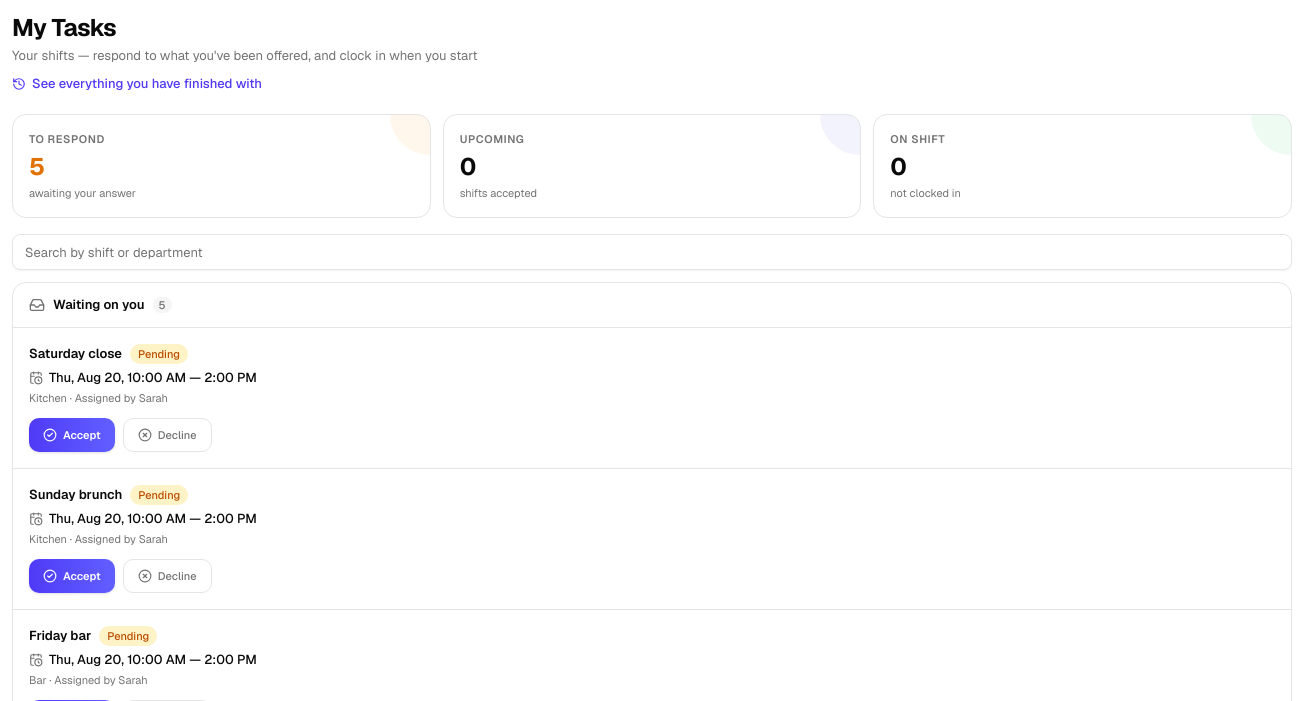
Scenario: searching what is on the plate › matches on department too
The width and height of the screenshot is (1304, 701).
Expected: the heading "Friday bar" is shown, [29,626,91,646]
Type "bar" into the field named "Search your shifts" at (652, 252), box [12,234,1292,270]
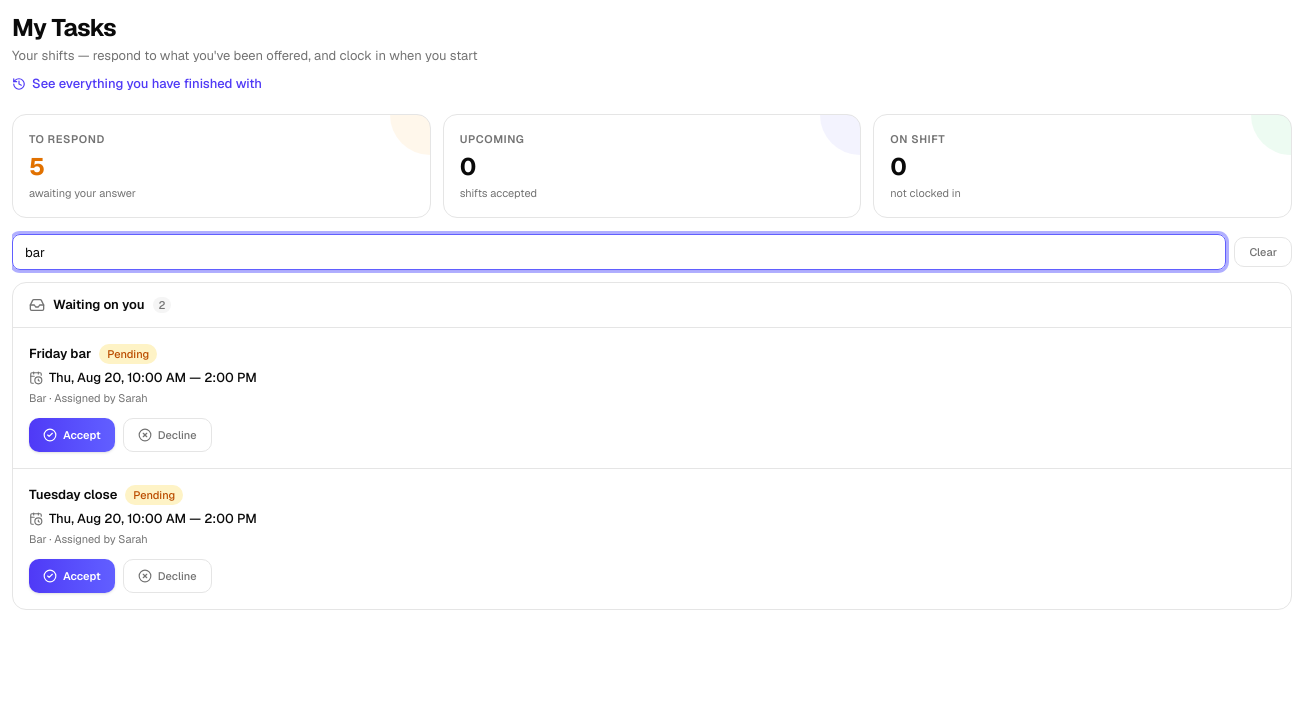
Expected: the heading "Friday bar" is shown, [29,344,91,364]
Now the heading "Sunday brunch" is gone
